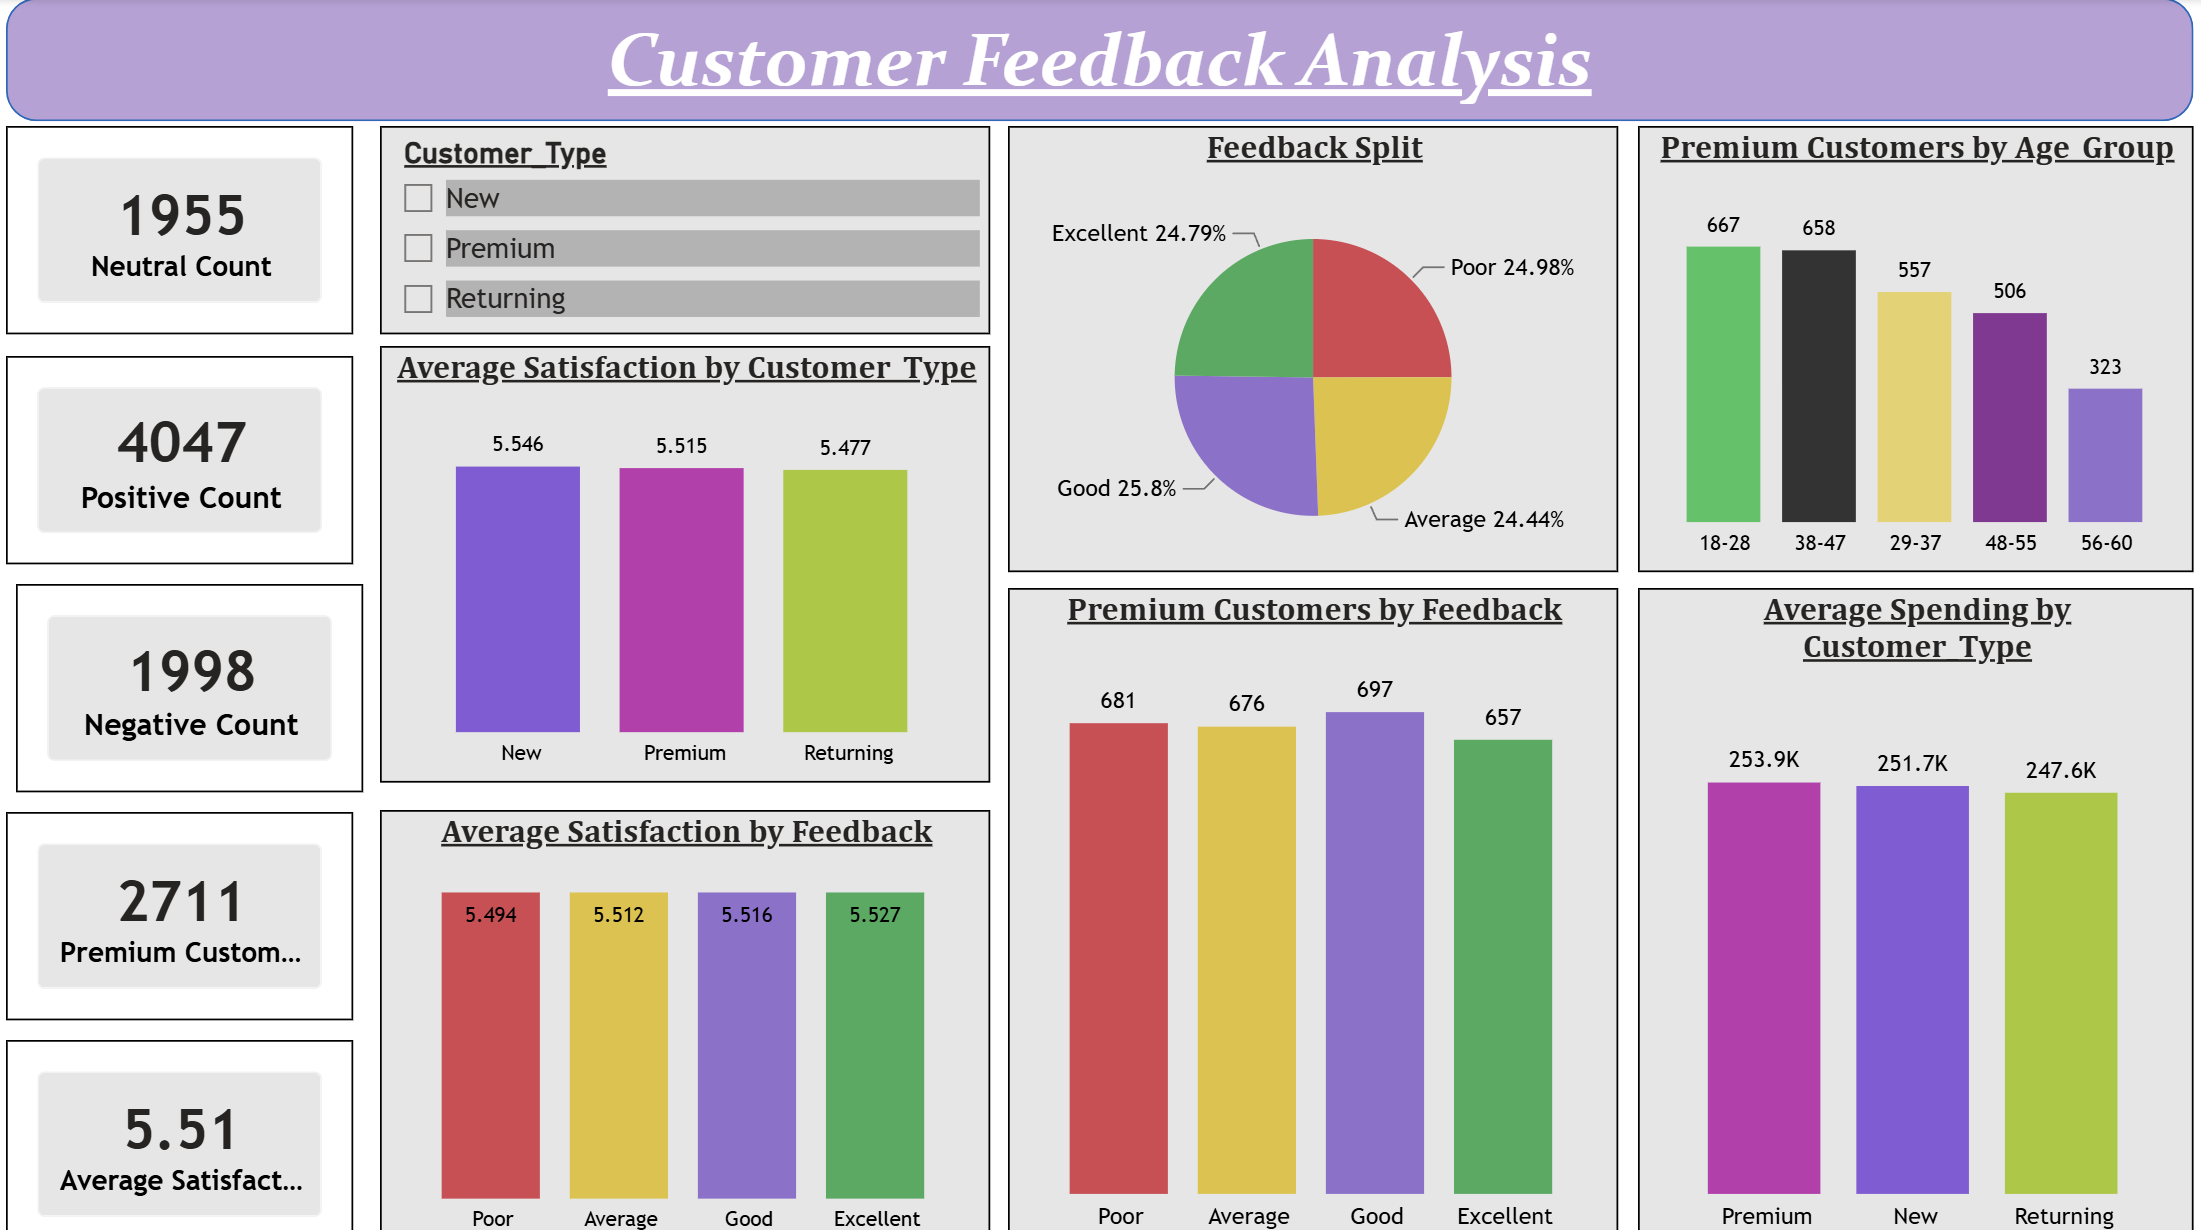

This screenshot's page, from the dashboard's own definition file:
{"tool":"powerbi","page":{"name":"L1 | T2","canvas":[1280,720],"ordinal":0},"visuals":[{"type":"shape","box":[10.2,0,1260,71],"z":0},{"type":"cardVisual","fields":{"Data":["Measures Table 1.Average Satisfaction"]},"box":[10,600,200,120],"z":1000},{"type":"cardVisual","fields":{"Data":["Measures Table 1.Negative Count"]},"box":[15.7,337.1,200,120],"z":2000},{"type":"cardVisual","fields":{"Data":["Measures Table 1.Premium Customers"]},"box":[10,468.6,200,120],"z":3000},{"type":"pieChart","title":"Feedback Split","fields":{"Category":["Customer.Feedback"],"Y":["Measures Table 1.Total Customers"]},"box":[587.1,74.3,351.4,257.1],"z":4000},{"type":"clusteredColumnChart","fields":{"Category":["Customer.Feedback"],"Y":["Measures Table 1.Average Satisfaction"]},"box":[225.7,467.1,351.4,252.9],"z":5000},{"type":"slicer","fields":{"Values":["Customer.Customer_Type"]},"box":[225.7,74.3,351.4,120],"z":6000},{"type":"cardVisual","fields":{"Data":["Measures Table 1.Positive Count"]},"box":[10,205.7,200,120],"z":7000},{"type":"cardVisual","fields":{"Data":["Measures Table 1.Neutral Count"]},"box":[10,74.3,200,120],"z":8000},{"type":"clusteredColumnChart","fields":{"Category":["Customer.Customer_Type"],"Y":["Measures Table 1.Average Satisfaction"]},"box":[225.7,200,351.4,251.4],"z":9000},{"type":"columnChart","title":"Premium Customers by Feedback","fields":{"Category":["Customer.Feedback"],"Y":["Measures Table 1.Total Customers"]},"box":[587.1,340,351.4,380],"z":10000},{"type":"clusteredColumnChart","fields":{"Category":["Customer.Customer_Type"],"Y":["Measures Table 2.Average Spending"]},"box":[950,340,320,380],"z":11000},{"type":"clusteredColumnChart","title":"Premium Customers by Age_Group","fields":{"Category":["Customer.Age_Group"],"Y":["Measures Table 1.Total Customers"]},"box":[950,74.3,320,257.1],"z":12000}]}

Visuals, with their boxes in screenshot pixels (x1, y1, x2, y2), scaled from the page's 1280x720 canvas onto the 2201x1230 screenshot:
shape: x1=18, y1=0, x2=2184, y2=121
cardVisual - Measures Table 1.Average Satisfaction: x1=17, y1=1025, x2=361, y2=1229
cardVisual - Measures Table 1.Negative Count: x1=27, y1=576, x2=371, y2=781
cardVisual - Measures Table 1.Premium Customers: x1=17, y1=801, x2=361, y2=1006
"Feedback Split" pieChart: x1=1010, y1=127, x2=1614, y2=566
clusteredColumnChart - Customer.Feedback x Measures Table 1.Average Satisfaction: x1=388, y1=798, x2=992, y2=1229
slicer - Customer.Customer_Type: x1=388, y1=127, x2=992, y2=332
cardVisual - Measures Table 1.Positive Count: x1=17, y1=351, x2=361, y2=556
cardVisual - Measures Table 1.Neutral Count: x1=17, y1=127, x2=361, y2=332
clusteredColumnChart - Customer.Customer_Type x Measures Table 1.Average Satisfaction: x1=388, y1=342, x2=992, y2=771
"Premium Customers by Feedback" columnChart: x1=1010, y1=581, x2=1614, y2=1229
clusteredColumnChart - Customer.Customer_Type x Measures Table 2.Average Spending: x1=1634, y1=581, x2=2184, y2=1229
"Premium Customers by Age_Group" clusteredColumnChart: x1=1634, y1=127, x2=2184, y2=566
